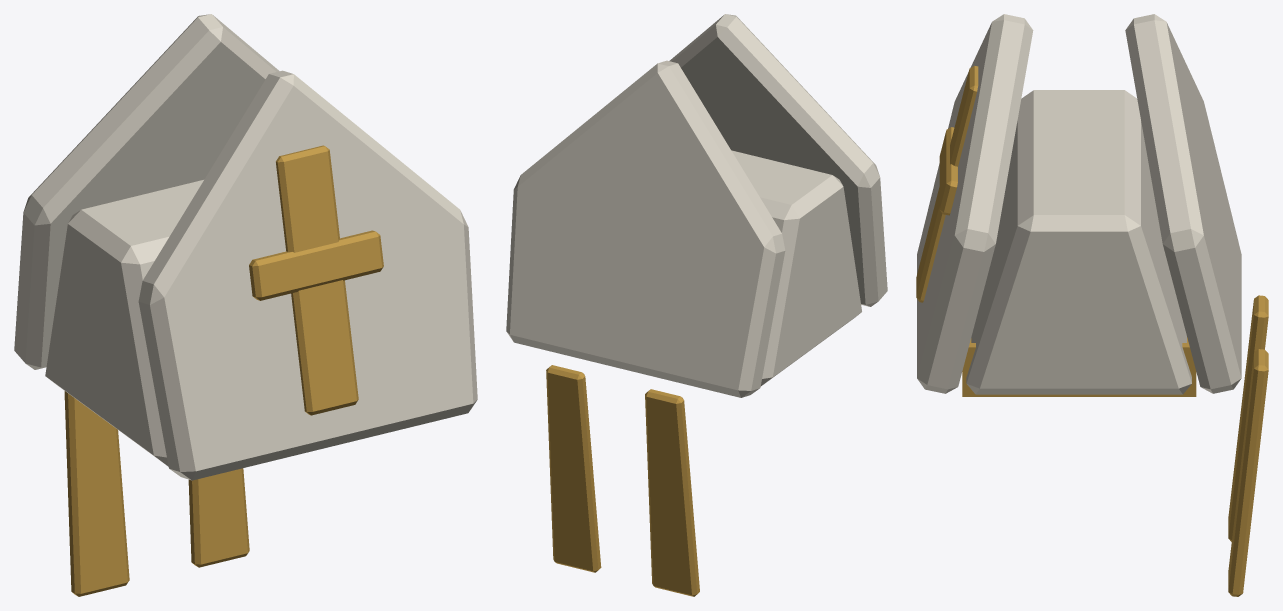
The model's file is Hat_Mitre.fbx.
The picture shows the model from 3 angles, left to right: view 1: azimuth 30°, elevation 25°; view 2: azimuth 150°, elevation 25°; view 3: azimuth 270°, elevation 25°; orthographic projection. The views are drawn at different scales.
Visible parts, largest first — view 1: Mitre, MitreTrim; view 2: Mitre, MitreTrim; view 3: Mitre, MitreTrim.
Boxes of the visible parts, left/top/right/bottom form: Mitre: left=14, top=14, right=477, bottom=480; MitreTrim: left=64, top=145, right=383, bottom=596; Mitre: left=506, top=14, right=887, bottom=397; MitreTrim: left=546, top=365, right=699, bottom=596; Mitre: left=917, top=14, right=1241, bottom=394; MitreTrim: left=916, top=65, right=1268, bottom=596.
Size of the model in its own units: 1.59 by 2.83 by 1.67.
